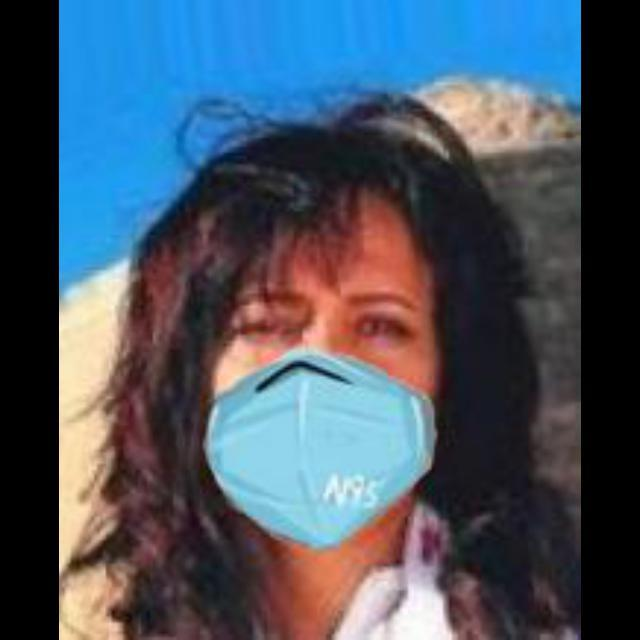suspicion: (152, 117, 474, 551)
